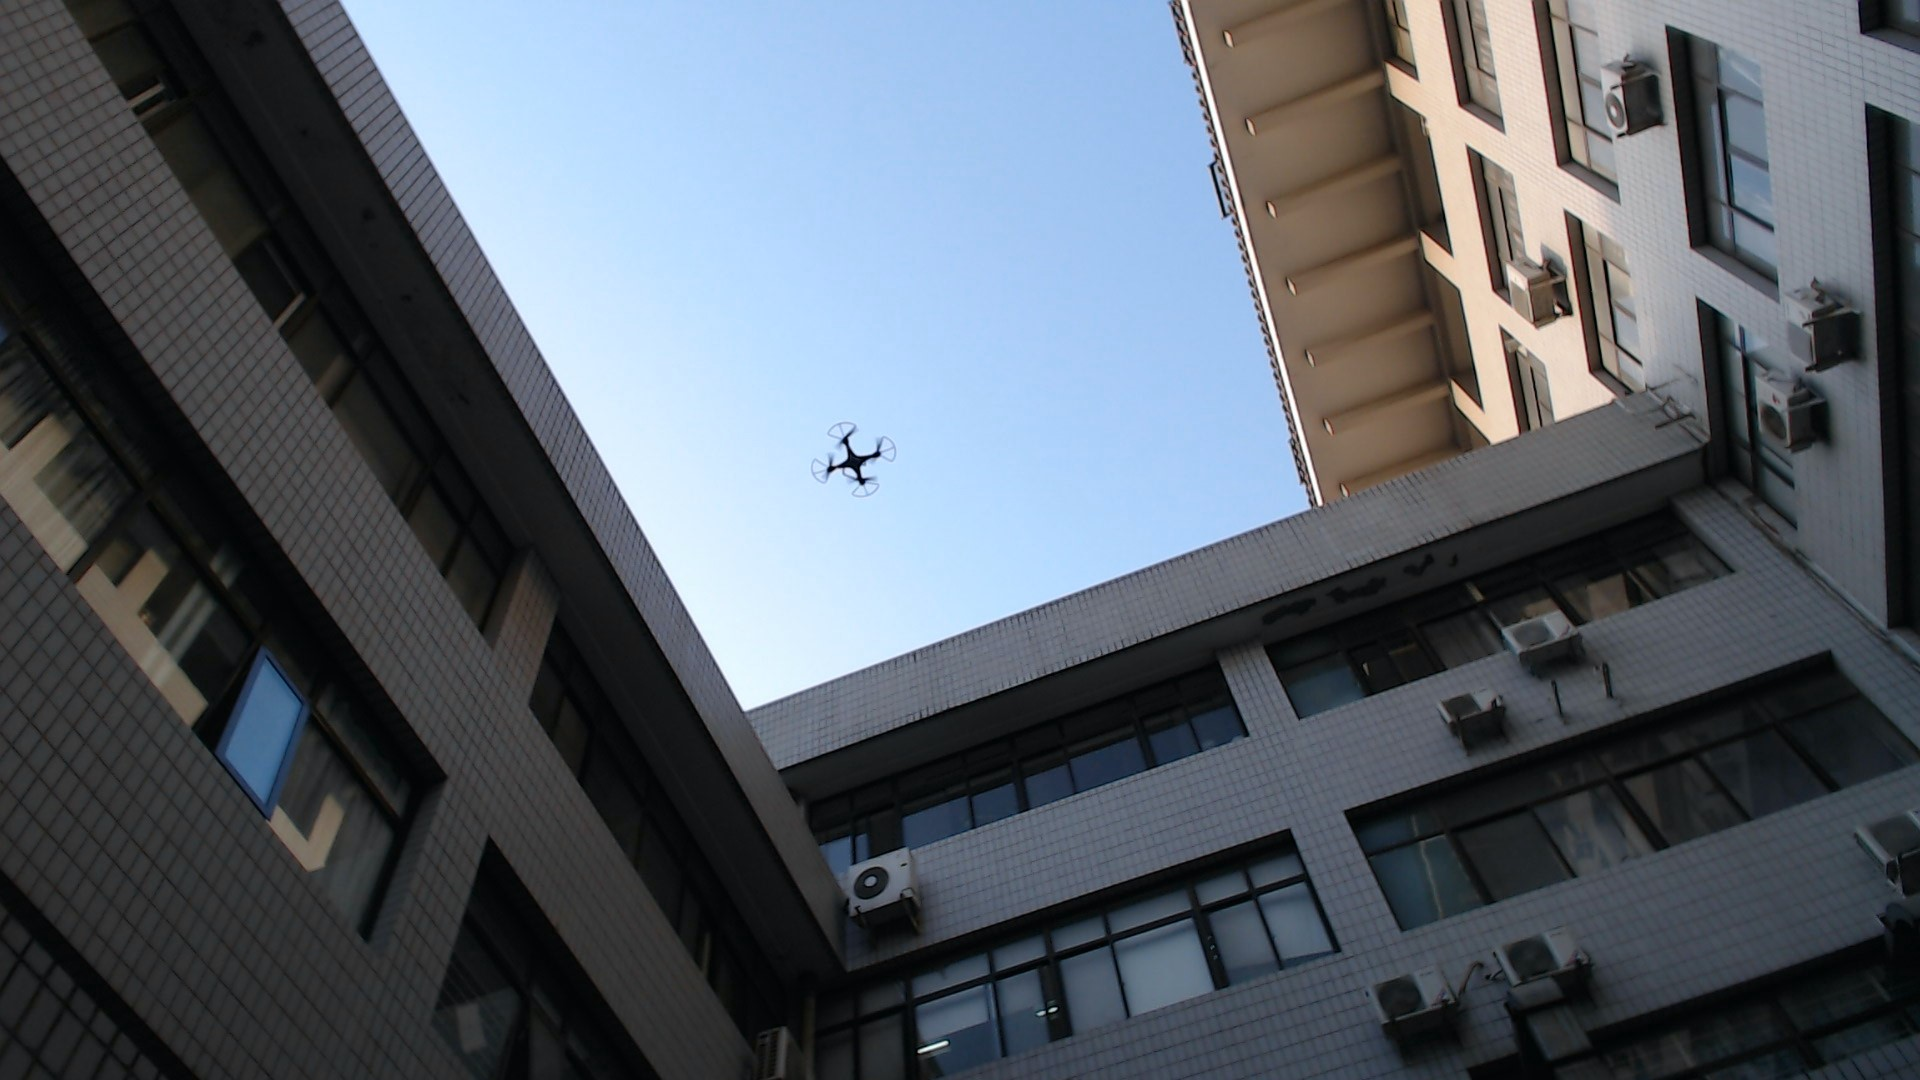drone: (806, 418, 897, 501)
